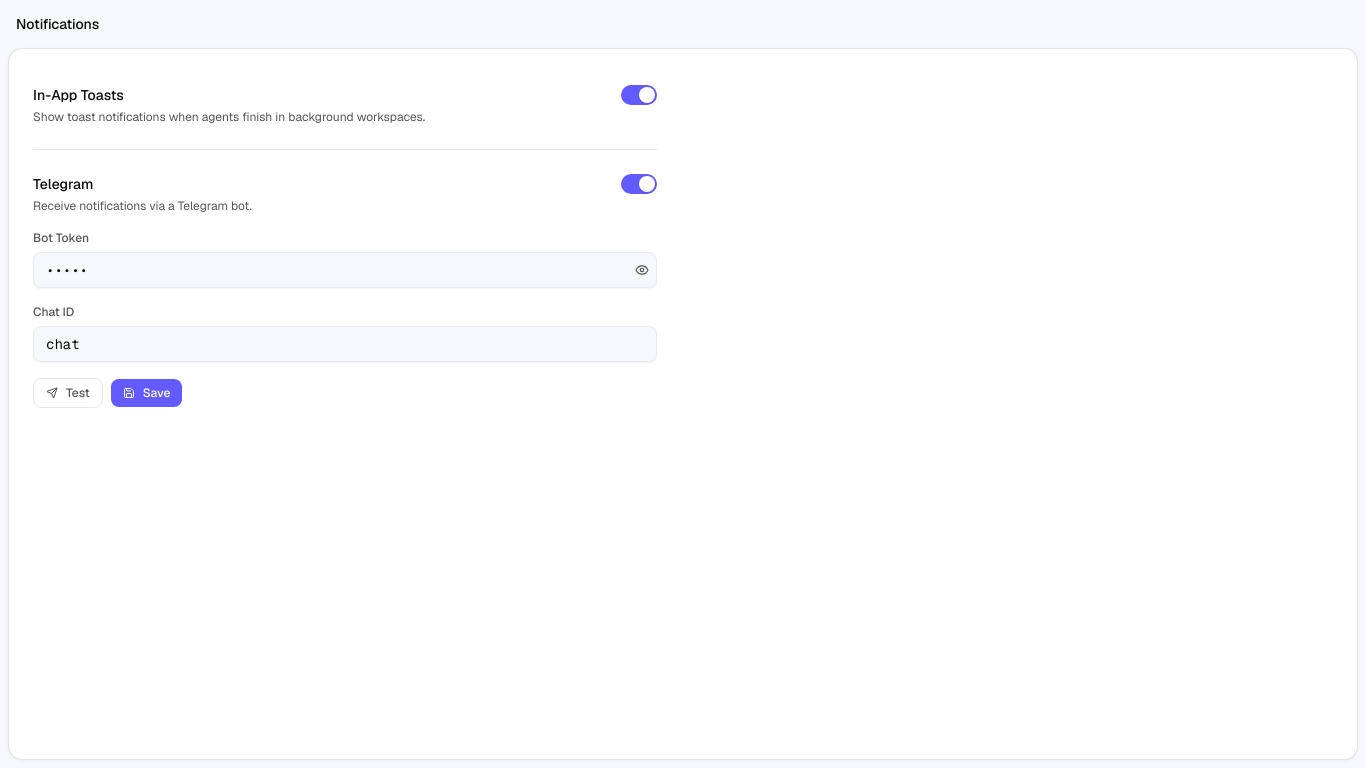
NotificationSettings › sends test notification and shows success feedback
Expected: the heading "Notifications" is shown, [16,14,99,34]
Click the button "Test".
click(68, 393)  # box [33,378,103,408]
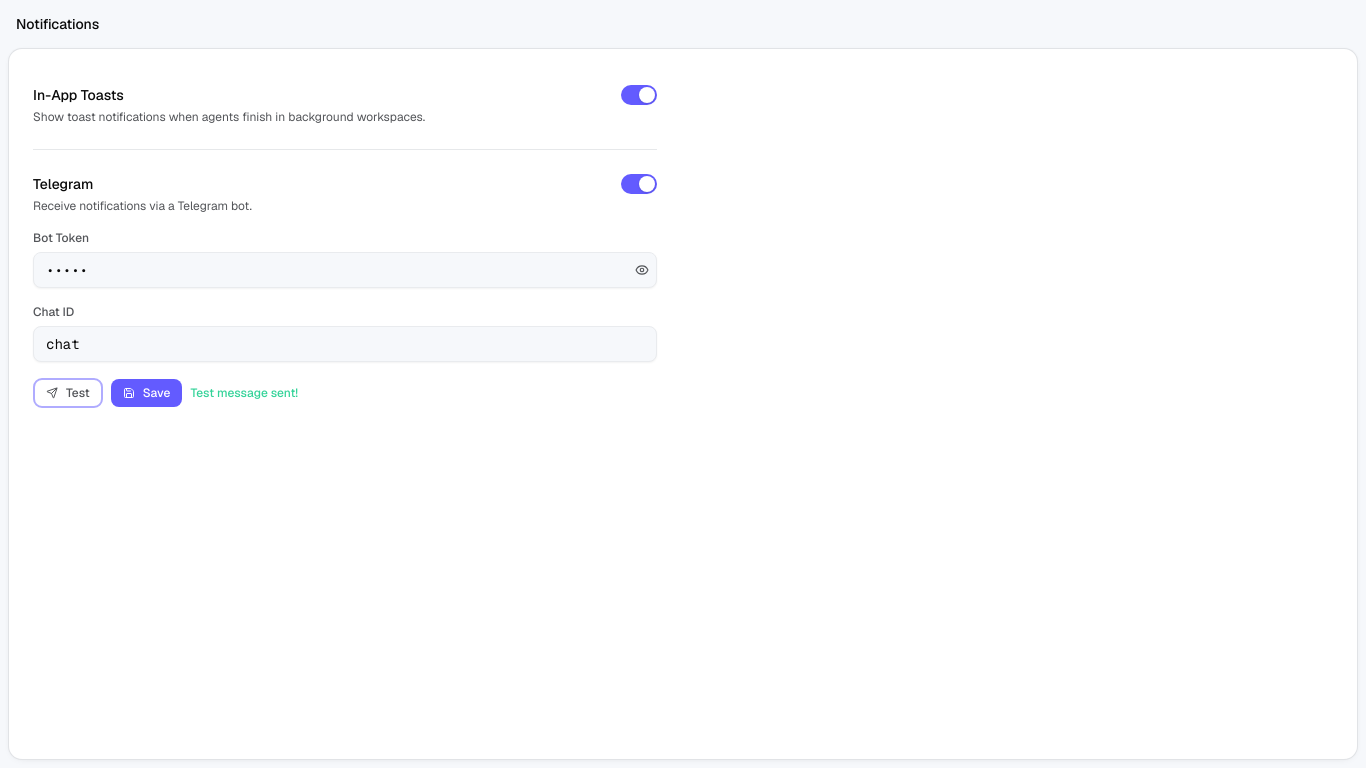
Result: the text "Test message sent!" is shown at [190,385,298,401]
